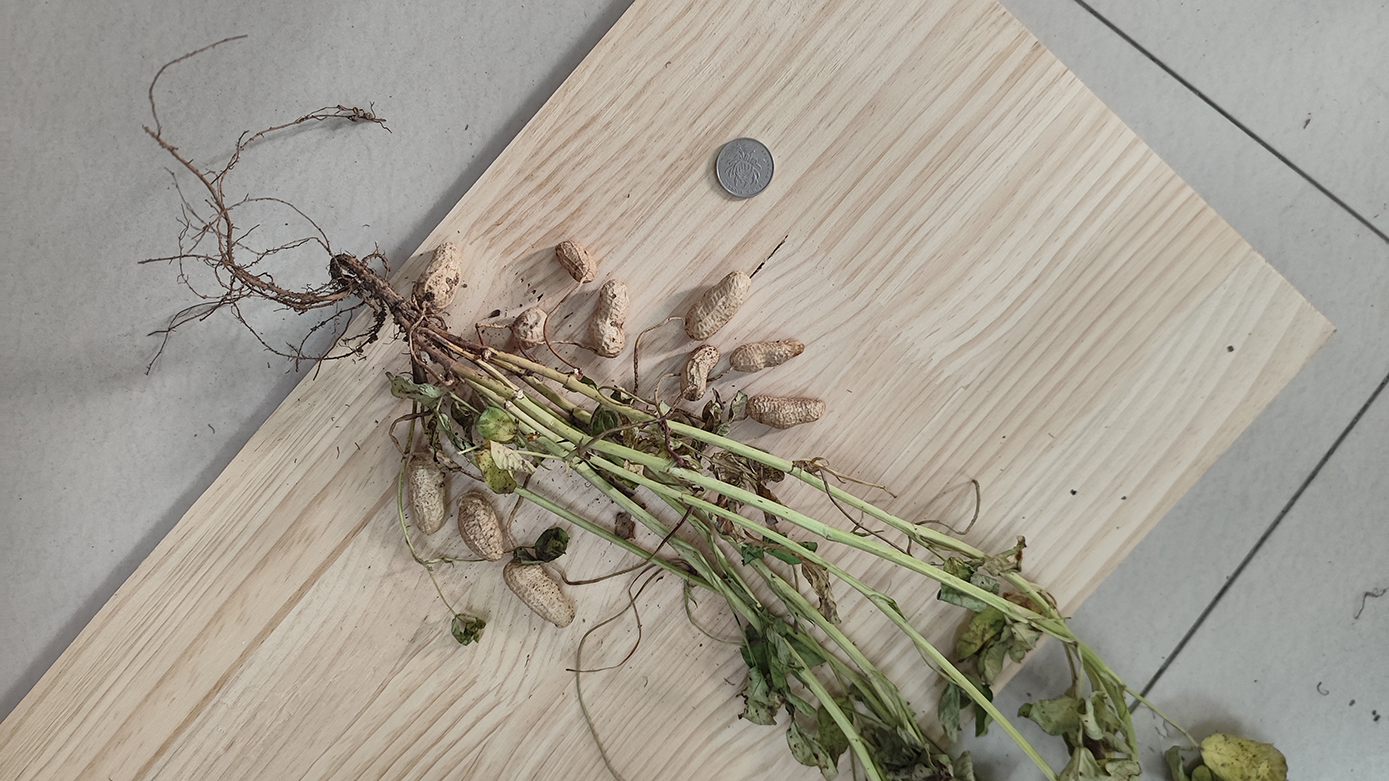h: (684, 271, 754, 341), (504, 561, 574, 627), (405, 454, 448, 532), (414, 241, 461, 309), (458, 493, 503, 563), (748, 393, 825, 426), (730, 338, 804, 372), (592, 281, 625, 355), (680, 345, 718, 400), (555, 240, 595, 284), (513, 309, 546, 354)
